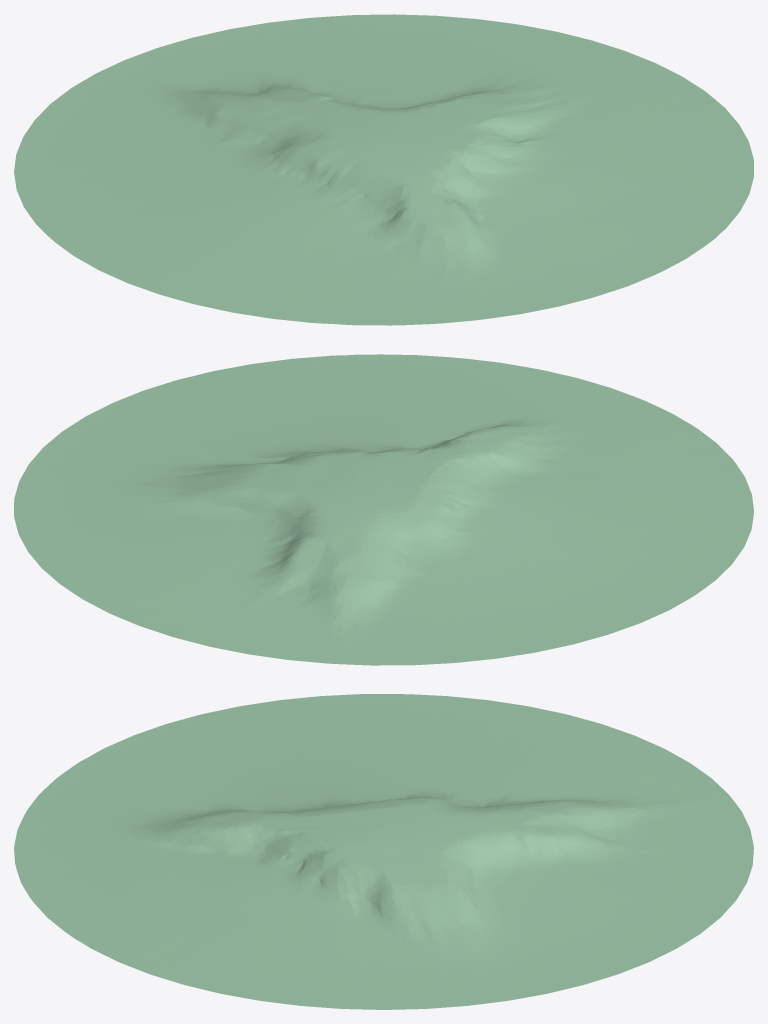
File: island_coral_medium_D_flat.fbx
3 renders of one model, top to bottom at view 1: azimuth 30°, elevation 25°; view 2: azimuth 150°, elevation 25°; view 3: azimuth 270°, elevation 25°, orthographic.
Visible parts, largest first — view 1: island_coral_medium_D_flat; view 2: island_coral_medium_D_flat; view 3: island_coral_medium_D_flat.
Part boxes in pixels (box(x1,y1,x2,y2)): island_coral_medium_D_flat: box(14, 14, 753, 325); island_coral_medium_D_flat: box(14, 354, 753, 665); island_coral_medium_D_flat: box(14, 694, 753, 1009).
Size of the model in its own units: 10701 by 422 by 10591.
